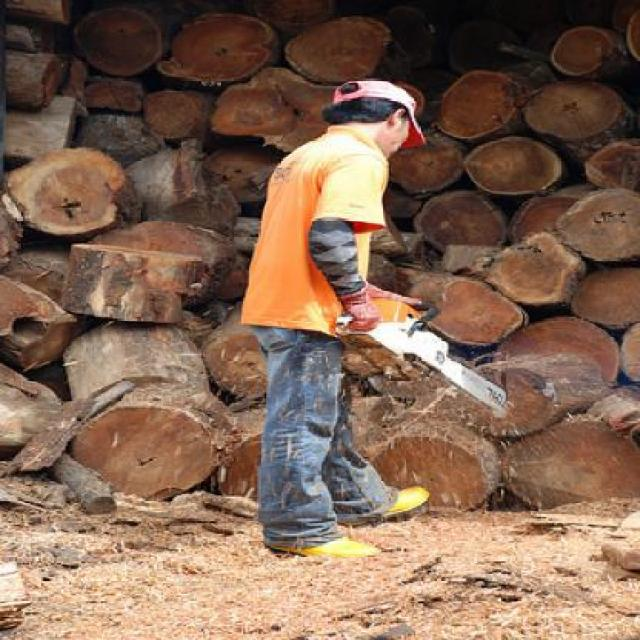Chainsaw: (337, 288, 509, 412)
